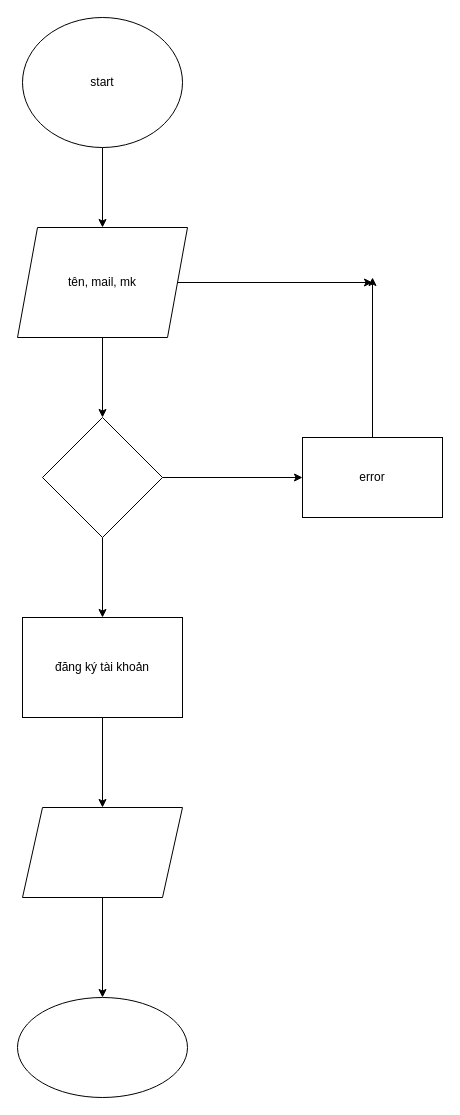
The diagram is 460 pixels wide and 1115 high, and some of its shapes have lost their labels. The centre of each missing label's shape, as x and y in pixels:
"check thông tin" belongs at [102,477].
"đăng ký thành công" belongs at [102,852].
